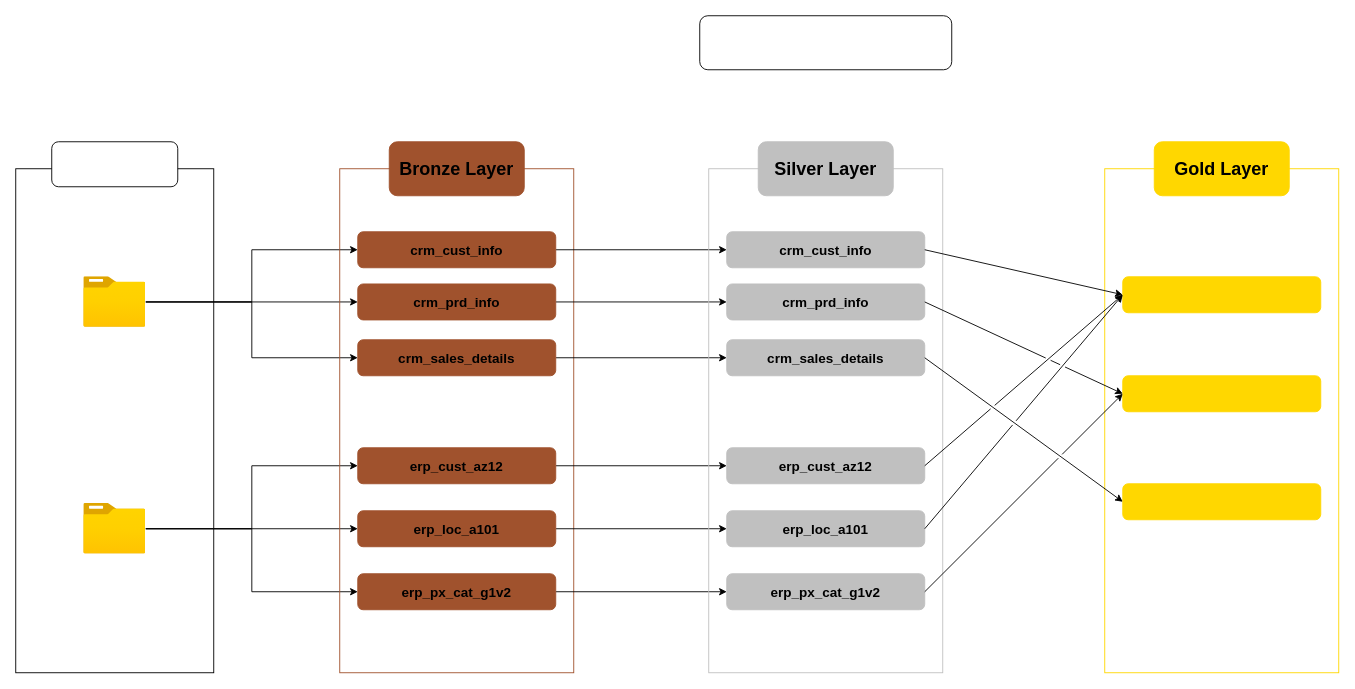
Some shapes in this 1355 by 689 pixel diagram are drawn without their labels. Here are the shapes that lost their labels. From the top down, the centre of each, then its label:
At point (825, 42): "Data Flow Digram".
At point (114, 164): "Source".
At point (114, 301): "CRM".
At point (1221, 294): "dim_customers".
At point (1221, 393): "dim_products".
At point (1221, 501): "fact_sales".
At point (114, 528): "ERP".
